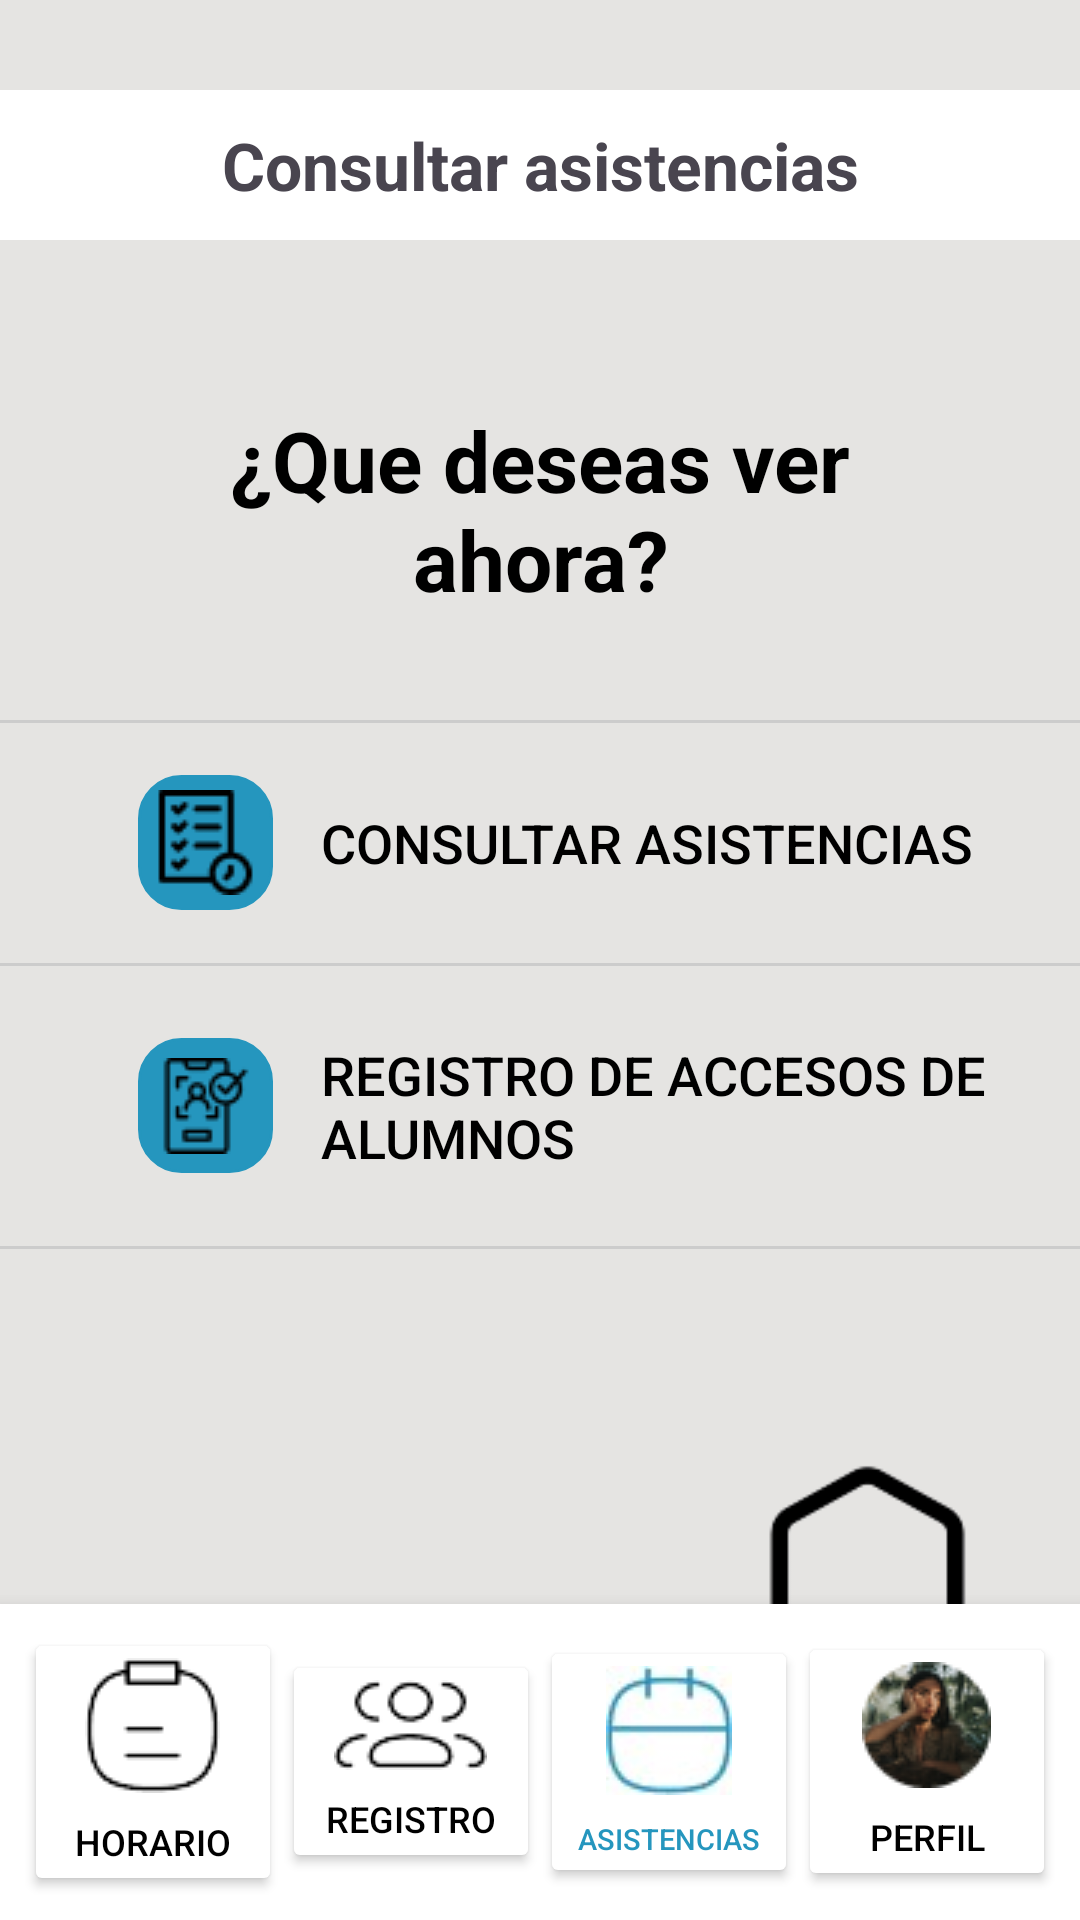

Screen size 1080w x 1920h. Icon name, then its box in pixels as [x1,y1,x2,y2]:
consultaasistencia: [138,775,273,910]
